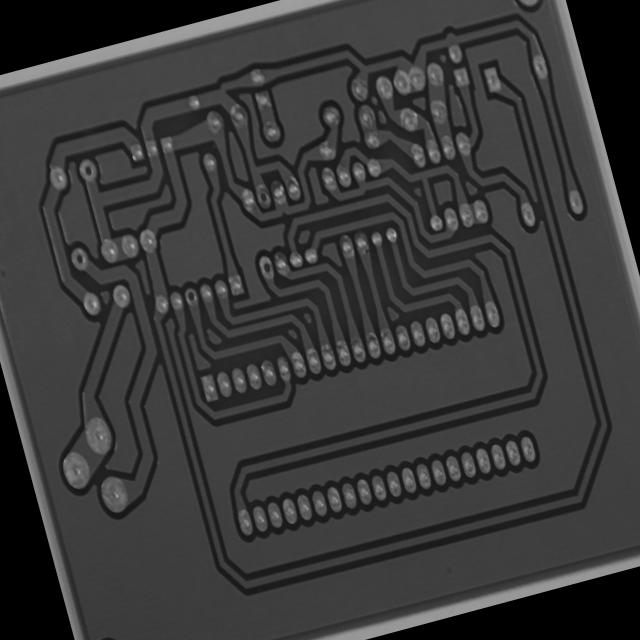missing_hole: (74, 152, 100, 187), (250, 179, 275, 212), (67, 242, 92, 274), (254, 251, 276, 283), (179, 283, 202, 311)
